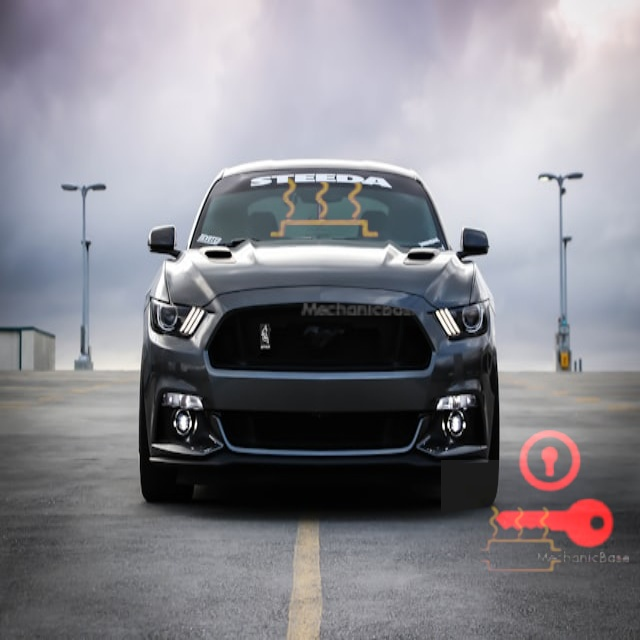symbol: (220, 117, 429, 326), (472, 407, 636, 571), (441, 460, 601, 620)
